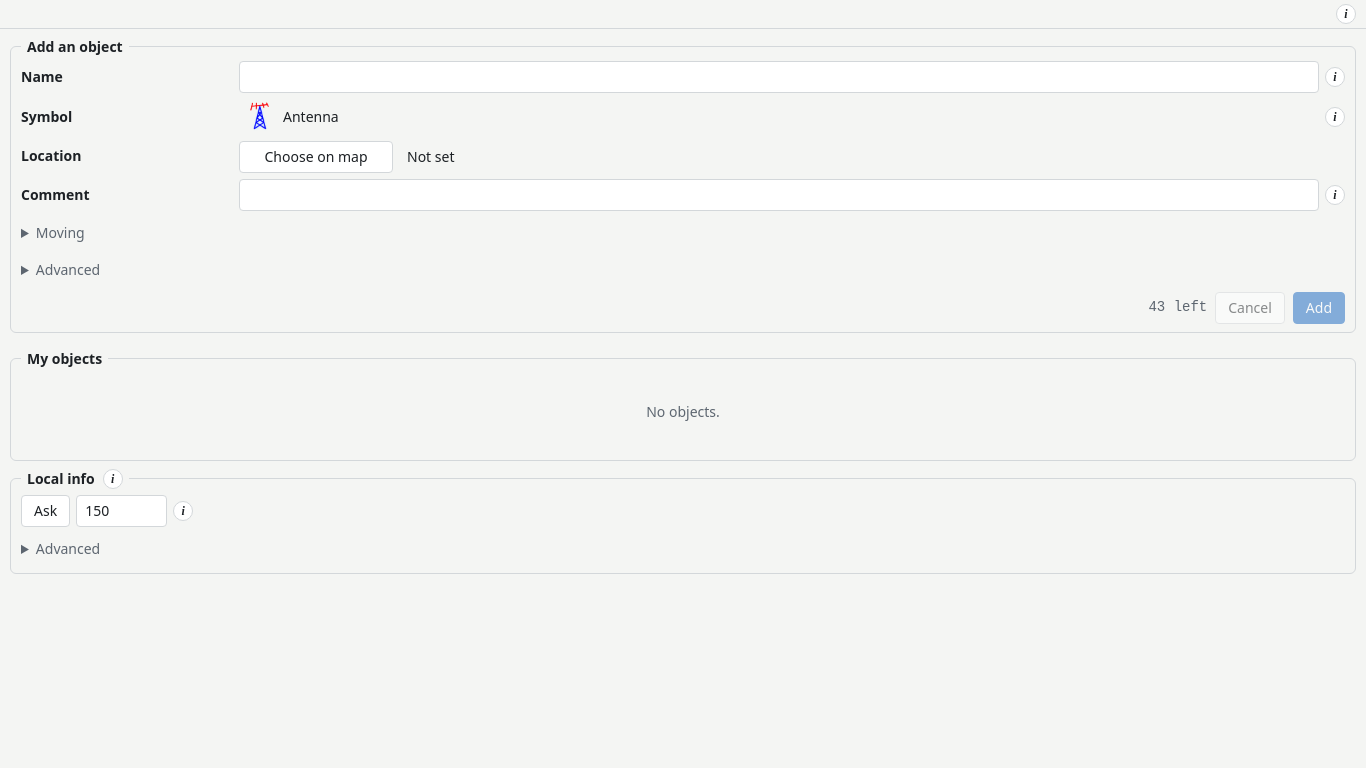
Test: ObjectsPane › has an (i) at the top that says what an object is, with a picture
Click the 1st button with class "info-toggle".
click(1346, 14)  # box [1336,4,1356,24]
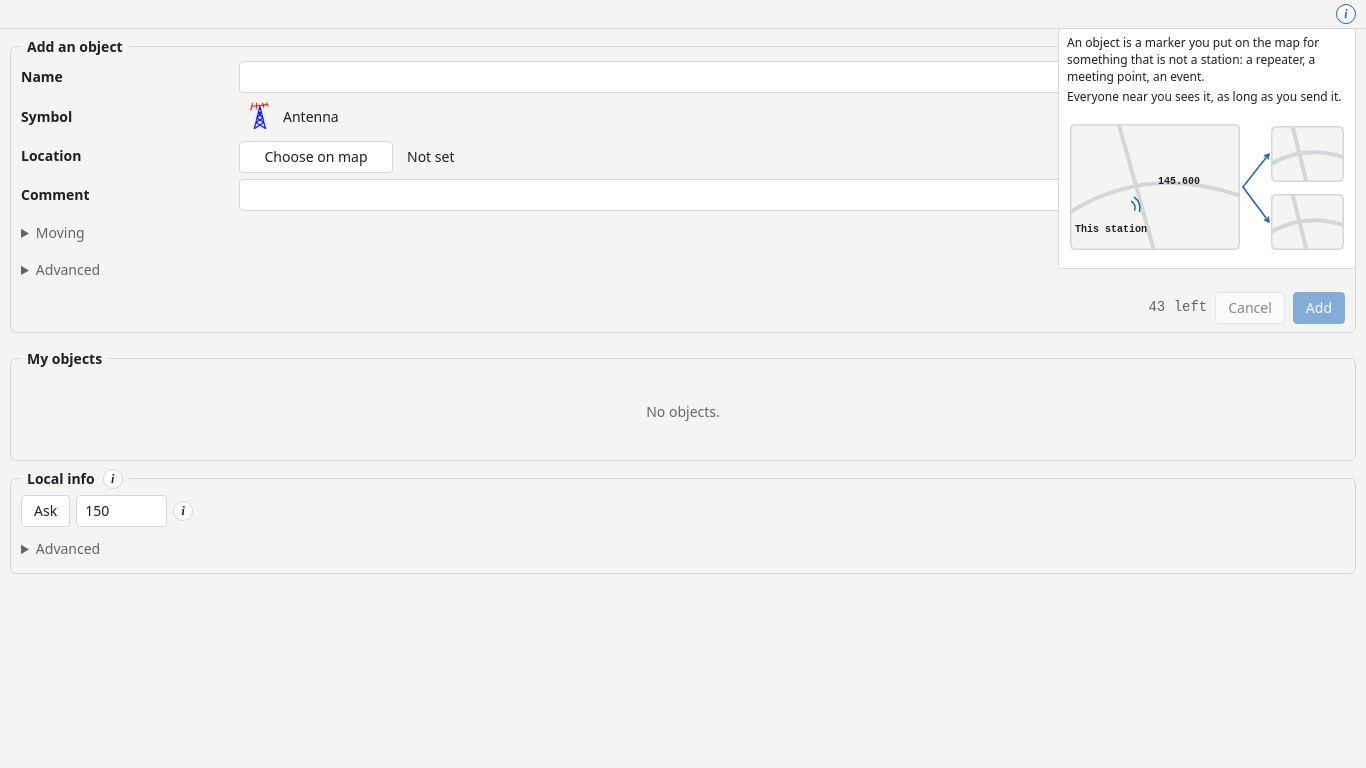
Expected: the element with class "info-text" shows "An object is a marker you put on the map for something that is not a station", [1067,34,1319,85]
Expected: the element with class "info-text" shows "Everyone near you sees it, as long as you send it.", [1067,88,1342,105]
